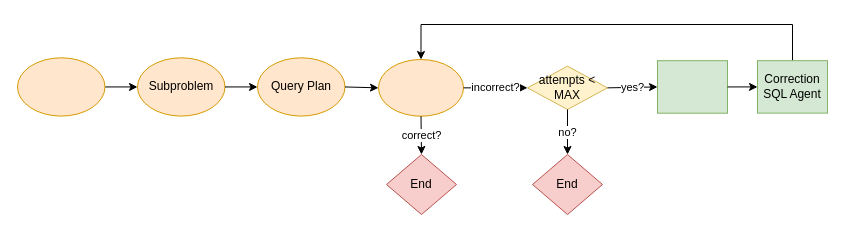
Some shapes in this 845 by 250 pixel diagram are drawn without their labels. The box of each missing label's shape, as (x1, y1, x2, y2) in pixels:
Correction Plan Agent: (656, 60, 728, 113)
Schema: (16, 57, 105, 116)
SQL: (378, 58, 464, 116)
